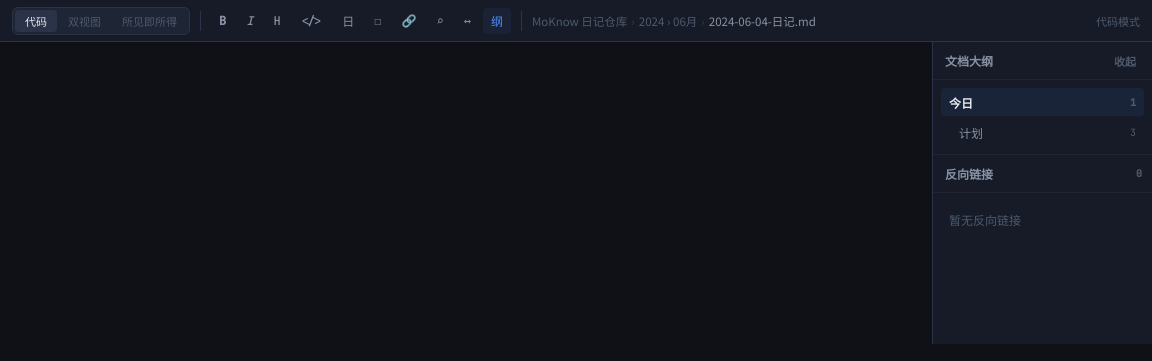
it: EditorWorkspace › builds a collapsible outline and jumps to headings
Expected: the text "今日" is shown, x1=949 y1=94 x2=973 y2=110
Expected: the text "计划" is shown, x1=959 y1=124 x2=983 y2=140
Click the button "计划 3" at point(1042, 132), box x1=941 y1=118 x2=1144 y2=146
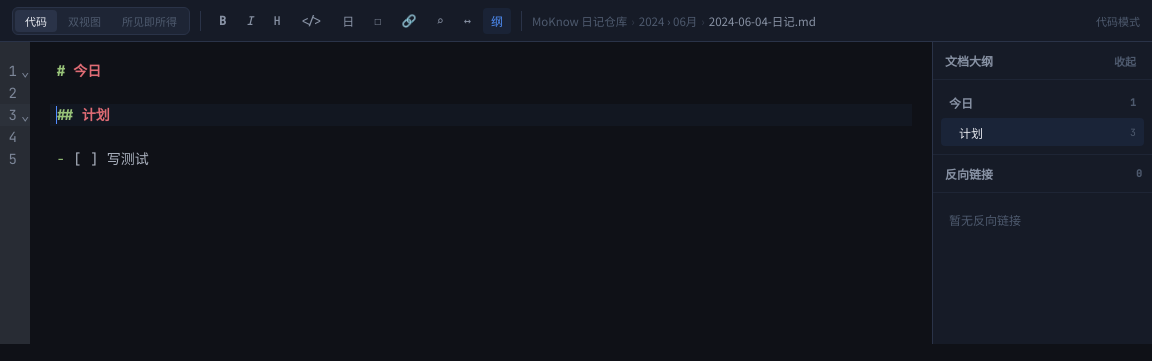
Click the button named "大纲" at point(497, 20), box x1=483 y1=8 x2=511 y2=34
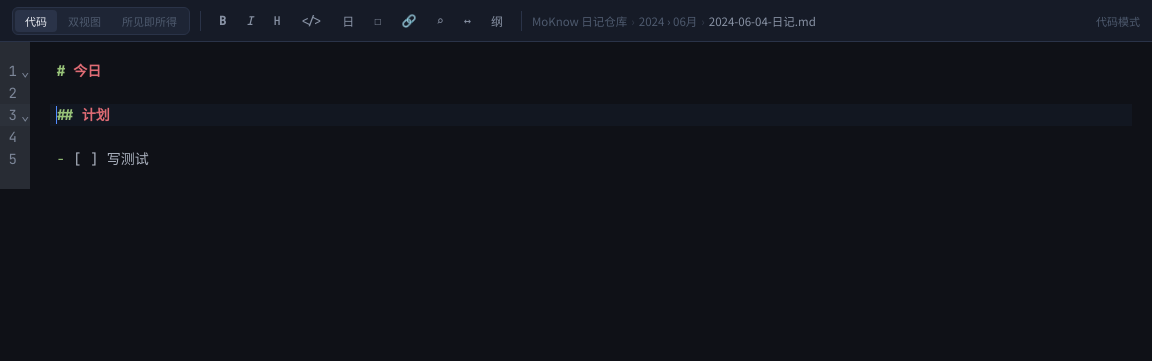
Expected: the text "文档大纲" is gone
Click the button named "大纲" at point(497, 20), box x1=483 y1=8 x2=511 y2=34
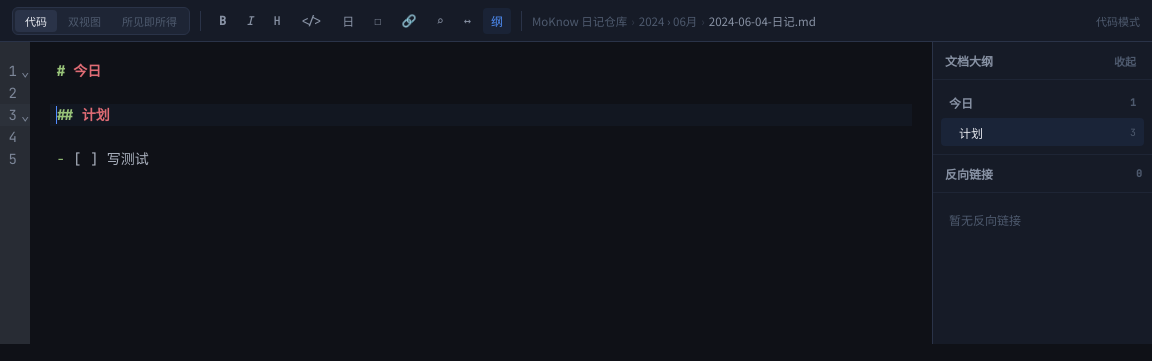
Expected: the navigation bar named "文档大纲" is shown, x1=933 y1=80 x2=1151 y2=154
